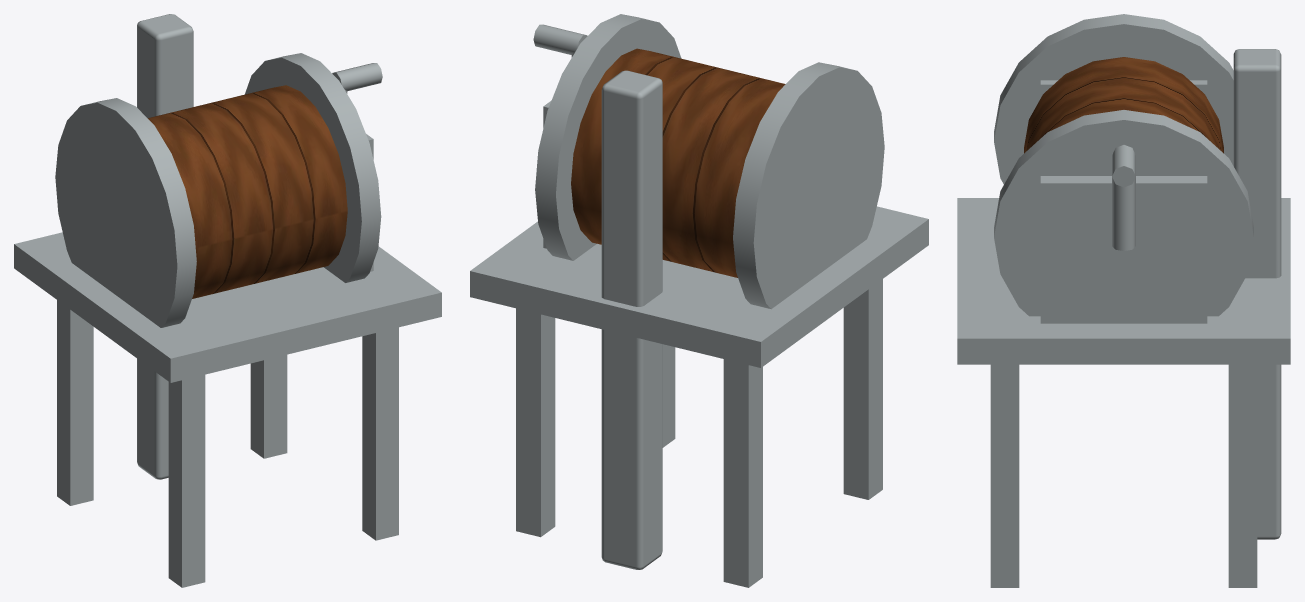
Rendered from fortified-compound-expansion-gate-winch-pedestal-7db715b4__27118.glb.
3 renders of one model, left to right at view 1: azimuth 30°, elevation 25°; view 2: azimuth 150°, elevation 25°; view 3: azimuth 270°, elevation 25°, orthographic. The views are drawn at different scales.
Visible parts, largest first — view 1: gate-winch-pedestal; view 2: gate-winch-pedestal; view 3: gate-winch-pedestal.
Boxes of the visible parts, box(x1,y1,x2,y2) form: gate-winch-pedestal: box(14, 14, 441, 587); gate-winch-pedestal: box(470, 14, 928, 587); gate-winch-pedestal: box(957, 14, 1290, 587).
Bounding box in the file's own units: 0.735 × 1.1 × 0.6999.
2 materials, 1 textured.
